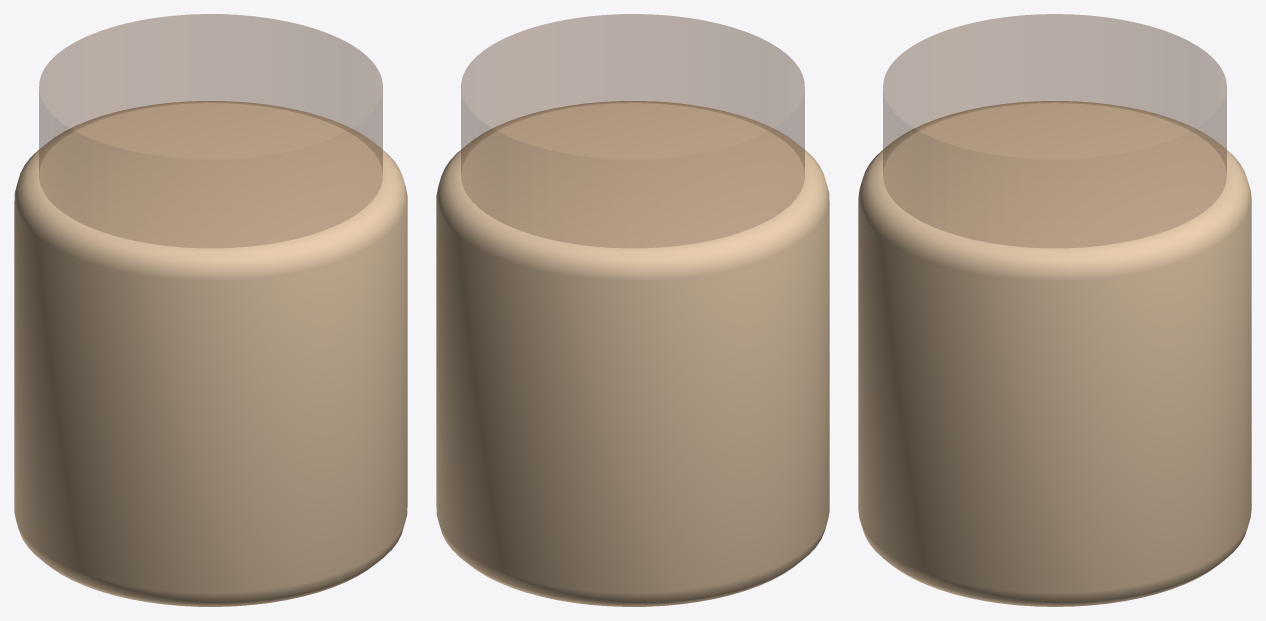
The picture shows the model from 3 angles, left to right: view 1: azimuth 30°, elevation 25°; view 2: azimuth 150°, elevation 25°; view 3: azimuth 270°, elevation 25°; orthographic projection.
Visible parts, largest first — view 1: Cup, Liquid; view 2: Cup, Liquid; view 3: Cup, Liquid.
Part boxes in pixels (x1,y1,x2,y2): Cup: [14, 101, 407, 606]; Liquid: [39, 14, 382, 247]; Cup: [436, 101, 829, 606]; Liquid: [461, 14, 804, 247]; Cup: [858, 101, 1251, 606]; Liquid: [883, 14, 1226, 247].
Bounding box in the file's own units: 0.08 × 0.1 × 0.08.
